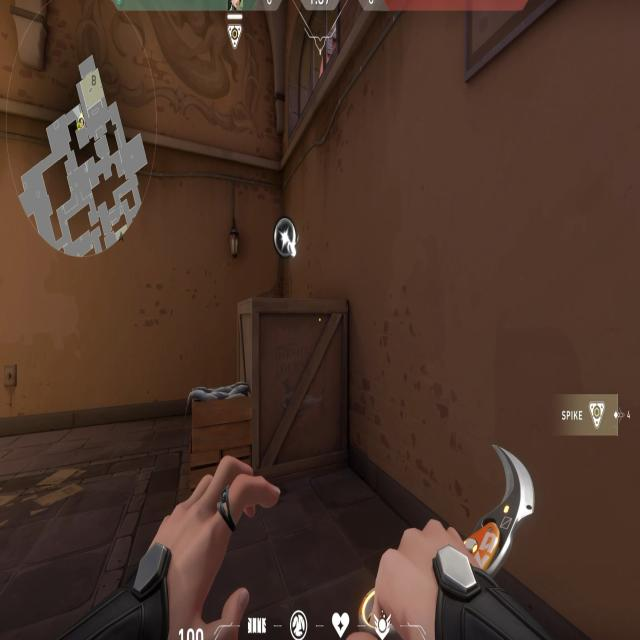B_Main_Wallbang: (182, 196, 362, 504)
